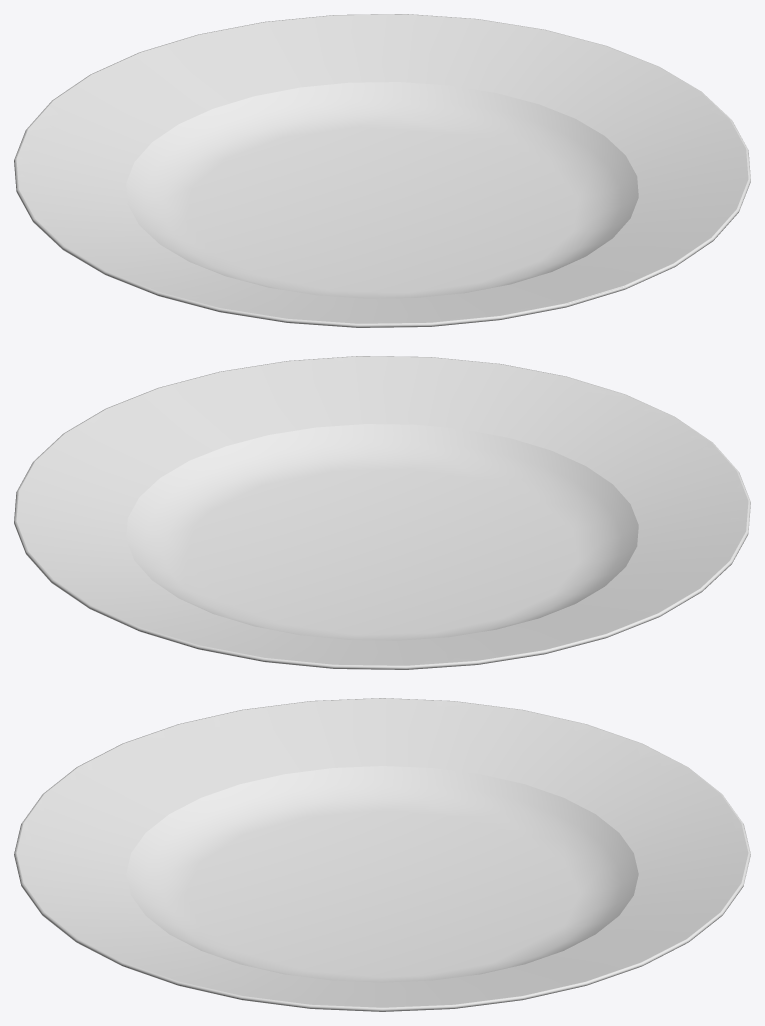
The model's file is plate.glb.
The picture shows the model from 3 angles, top to bottom: view 1: azimuth 30°, elevation 25°; view 2: azimuth 150°, elevation 25°; view 3: azimuth 270°, elevation 25°; orthographic projection.
Parts seen in each view (by area): view 1: asiete__0; view 2: asiete__0; view 3: asiete__0.
Boxes of the visible parts, x1,y1,x2,y2 form: asiete__0: [14, 14, 750, 327]; asiete__0: [14, 356, 750, 669]; asiete__0: [14, 698, 750, 1011].
Bounding box in the file's own units: 563 × 37.73 × 563.
Materials: 1 (1 with a texture image).
